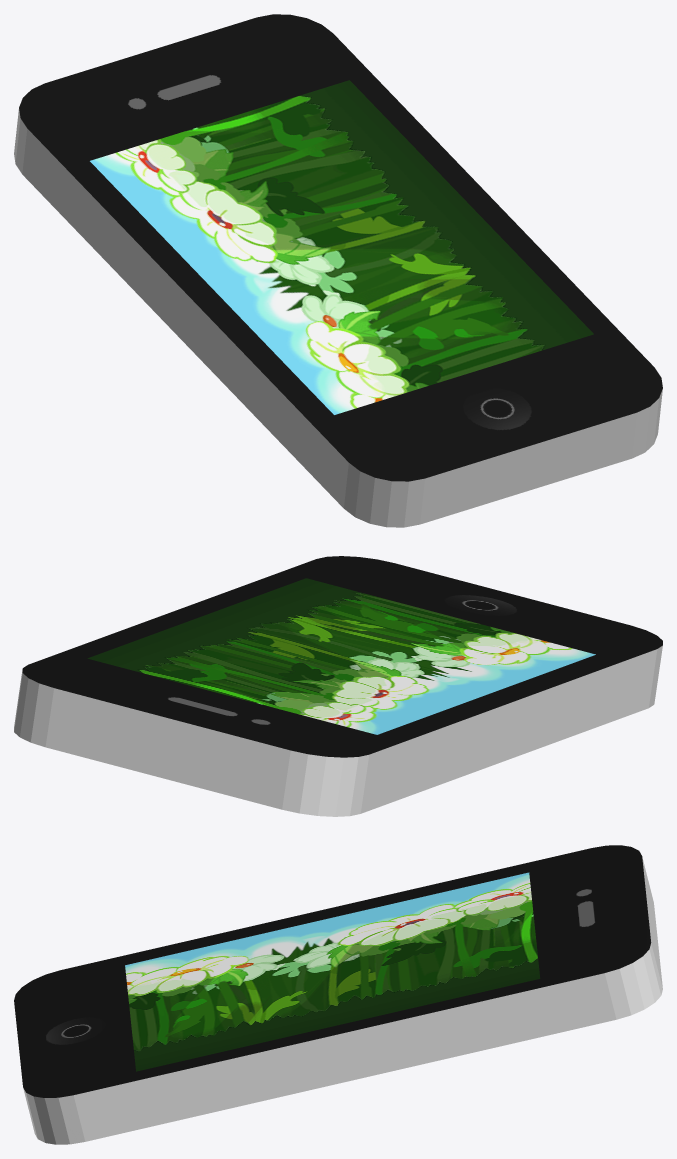
Rendered from phone.obj.
3 renders of one model, top to bottom at view 1: azimuth 30°, elevation 25°; view 2: azimuth 150°, elevation 25°; view 3: azimuth 270°, elevation 25°, orthographic. The views are drawn at different scales.
Visible parts, largest first — view 1: Cube; view 2: Cube; view 3: Cube.
Boxes of the visible parts, bbox=[...] form: Cube: bbox=[14, 14, 662, 527]; Cube: bbox=[14, 556, 662, 816]; Cube: bbox=[14, 845, 662, 1144].
Size of the model in its own units: 0.1025 by 0.0596 by 0.1888.
1 material, 1 textured.
